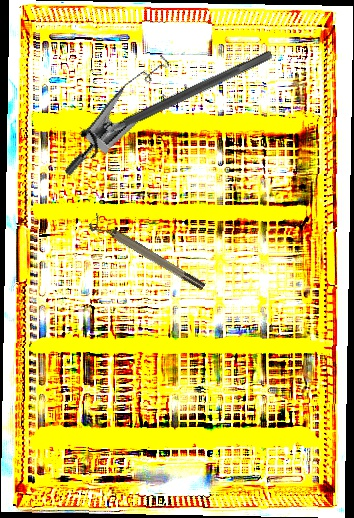Fixation Ring: (77, 40, 279, 160), (87, 212, 207, 298)
Speculum: (62, 40, 200, 208)
